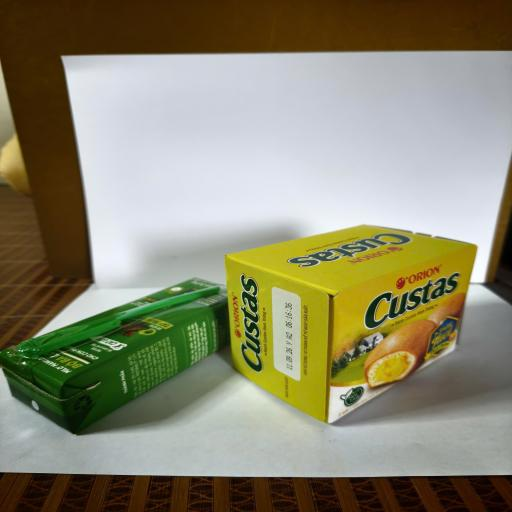custas: (224, 224, 478, 423)
milo: (0, 277, 232, 435)
